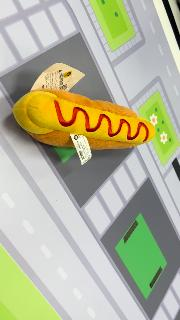hotdog: (12, 88, 156, 152)
